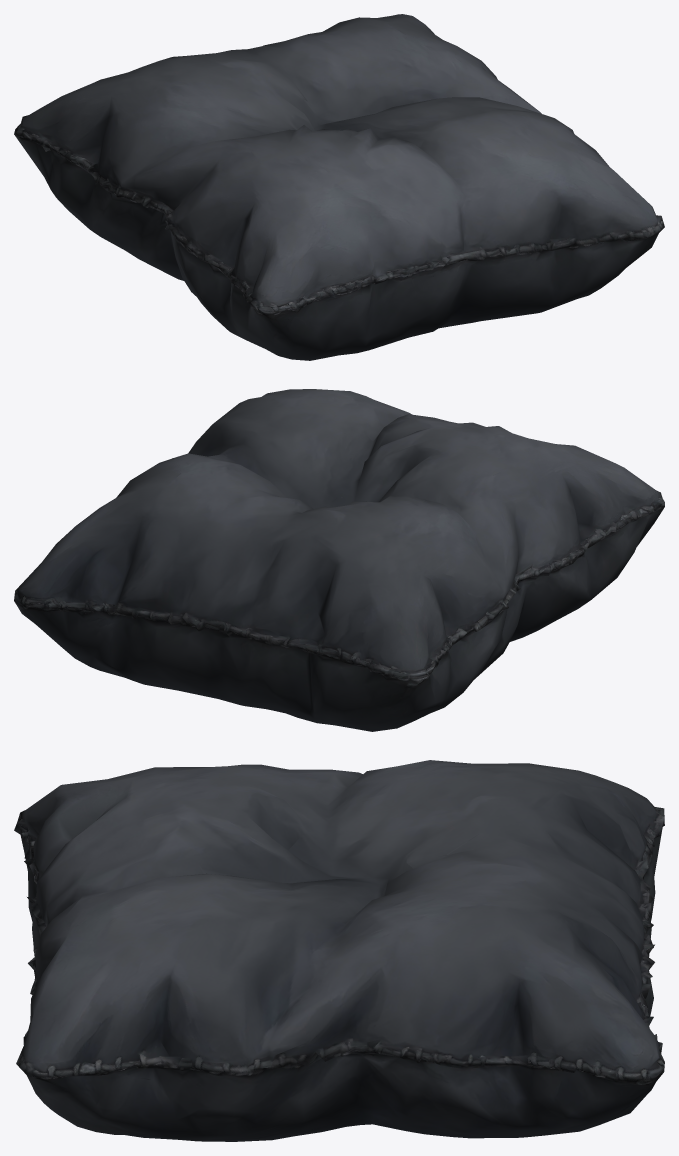
The model's file is pillow+cushion+3d+model.glb.
3 renders of one model, top to bottom at view 1: azimuth 30°, elevation 25°; view 2: azimuth 150°, elevation 25°; view 3: azimuth 270°, elevation 25°, orthographic. The views are drawn at different scales.
Parts seen in each view (by area): view 1: tripo_node_27da104b-9374-46d5-bd00-eca364744c90; view 2: tripo_node_27da104b-9374-46d5-bd00-eca364744c90; view 3: tripo_node_27da104b-9374-46d5-bd00-eca364744c90.
Part boxes in pixels (box(x1,y1,x2,y2)): tripo_node_27da104b-9374-46d5-bd00-eca364744c90: box(14, 14, 664, 360); tripo_node_27da104b-9374-46d5-bd00-eca364744c90: box(14, 389, 664, 731); tripo_node_27da104b-9374-46d5-bd00-eca364744c90: box(14, 760, 664, 1141).
Bounding box in the file's own units: 0.9201 × 0.3952 × 1.
1 material, 1 textured.
